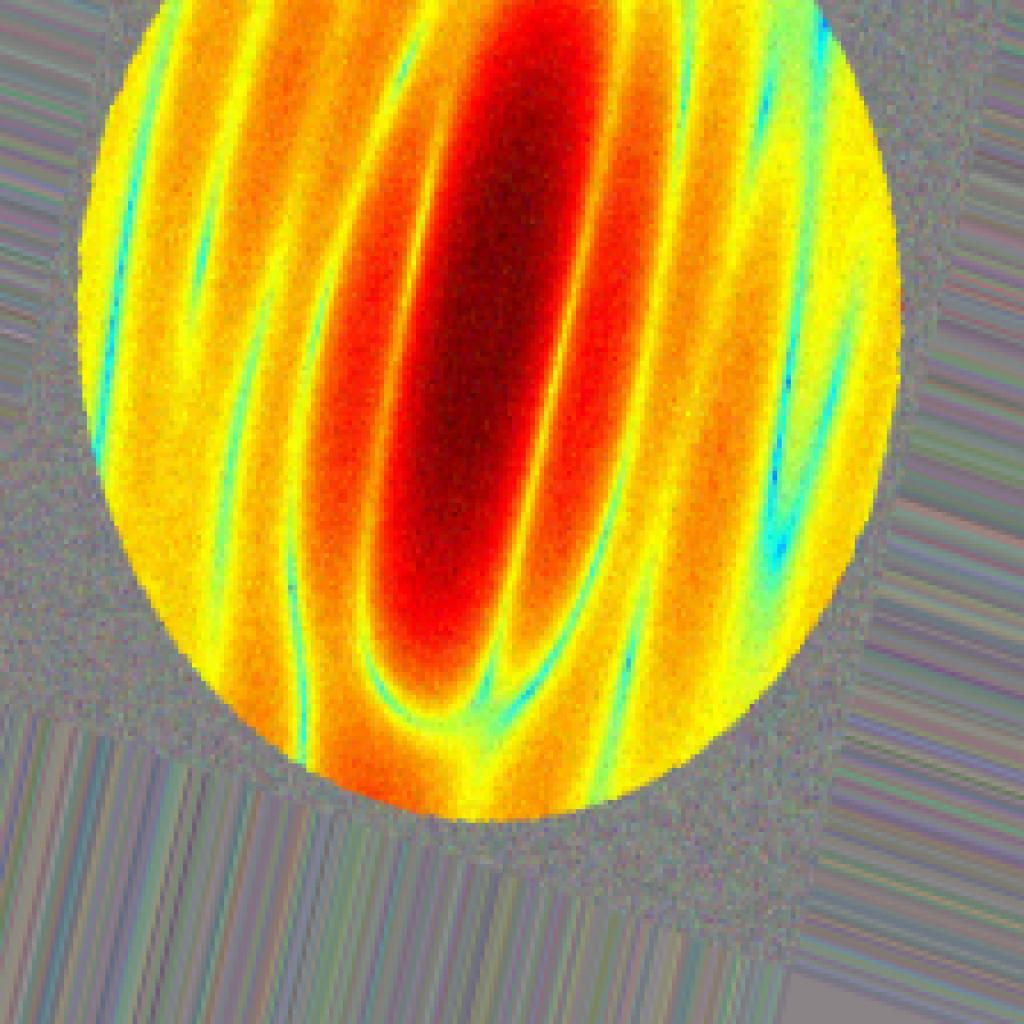Sprialbacteria: (69, 0, 905, 823)
